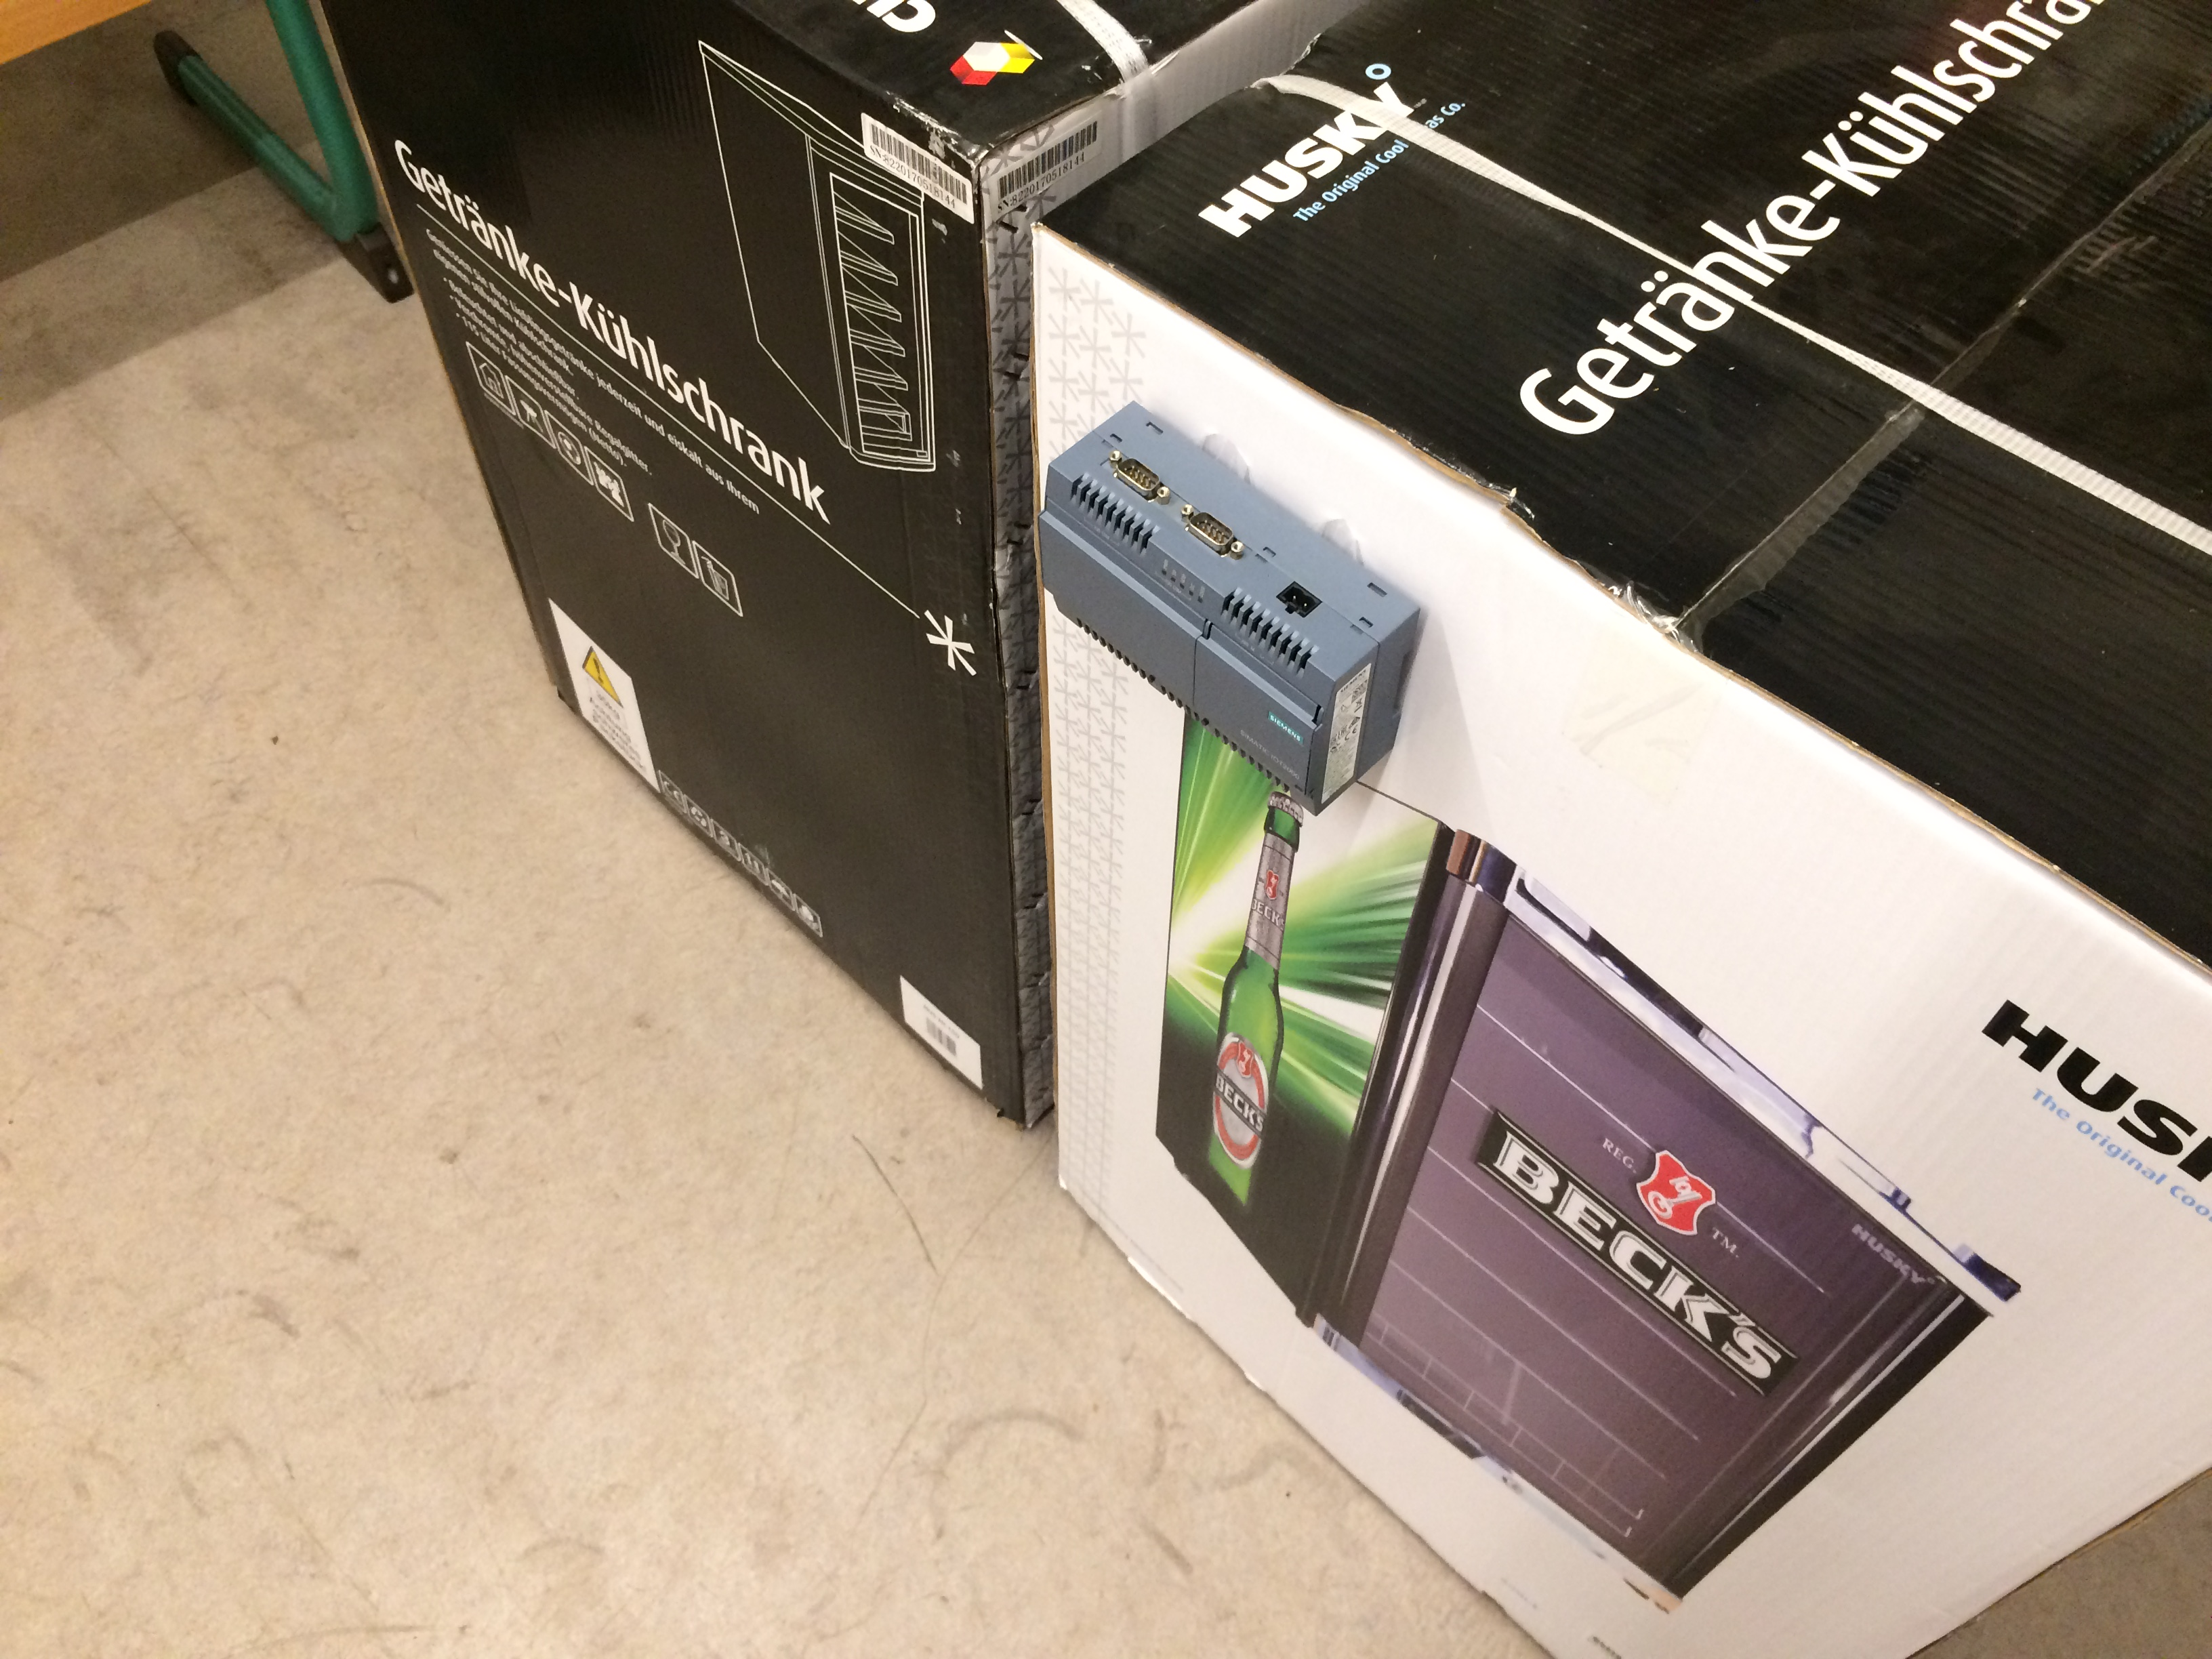iot2000: (1033, 397, 1426, 823)
